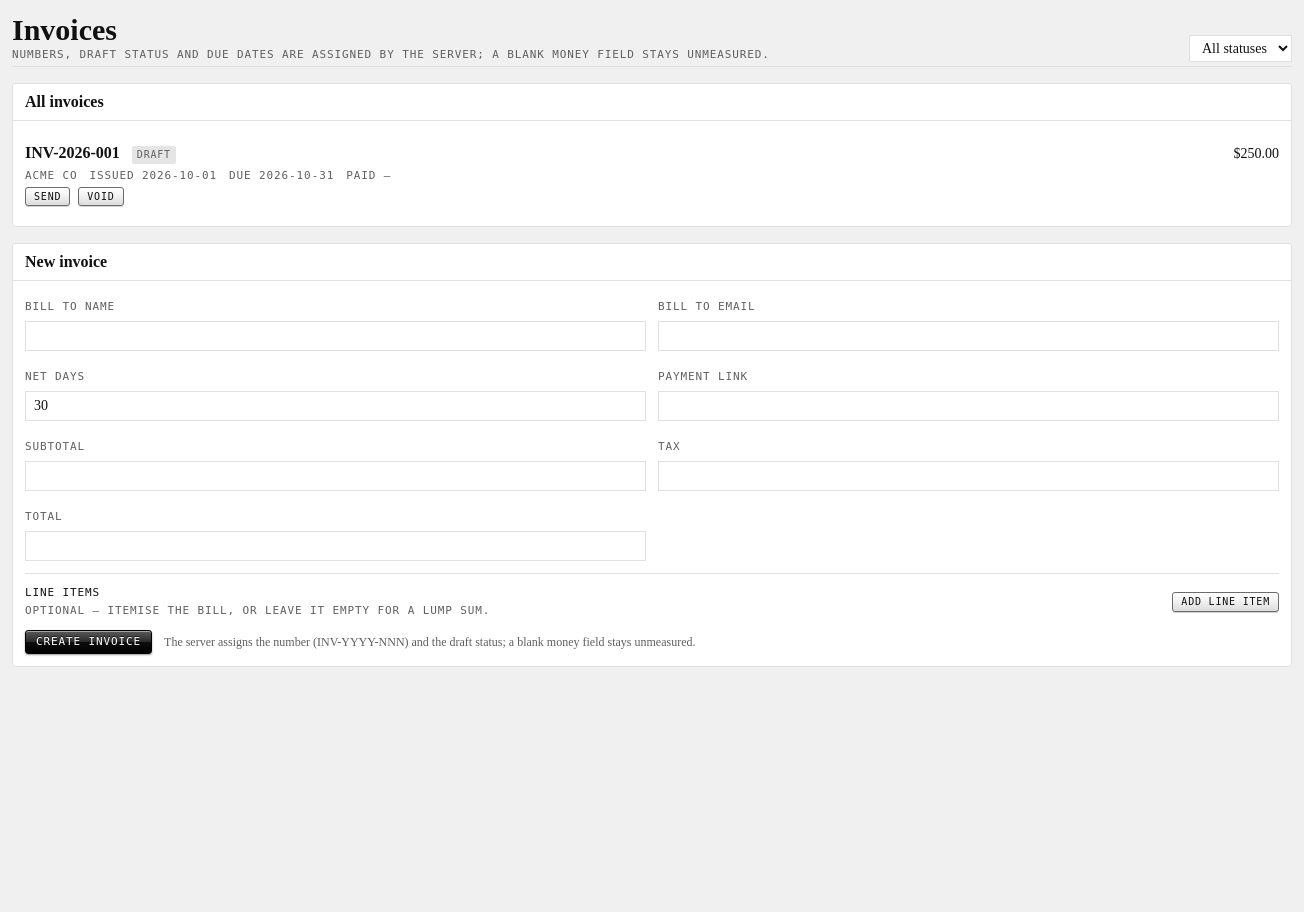
InvoicesPage — create (POST /invoices) › POSTs the exact body and shows the server's row (created note + prepended row, no invented re-read)
The width and height of the screenshot is (1304, 912).
Check: the element with test id "invoice-row-1" is shown, box [25,133,1279,214]
Step 1. Type "Acme Co" into the field labelled "Bill to name" → [336, 336], box [25,321,646,351]
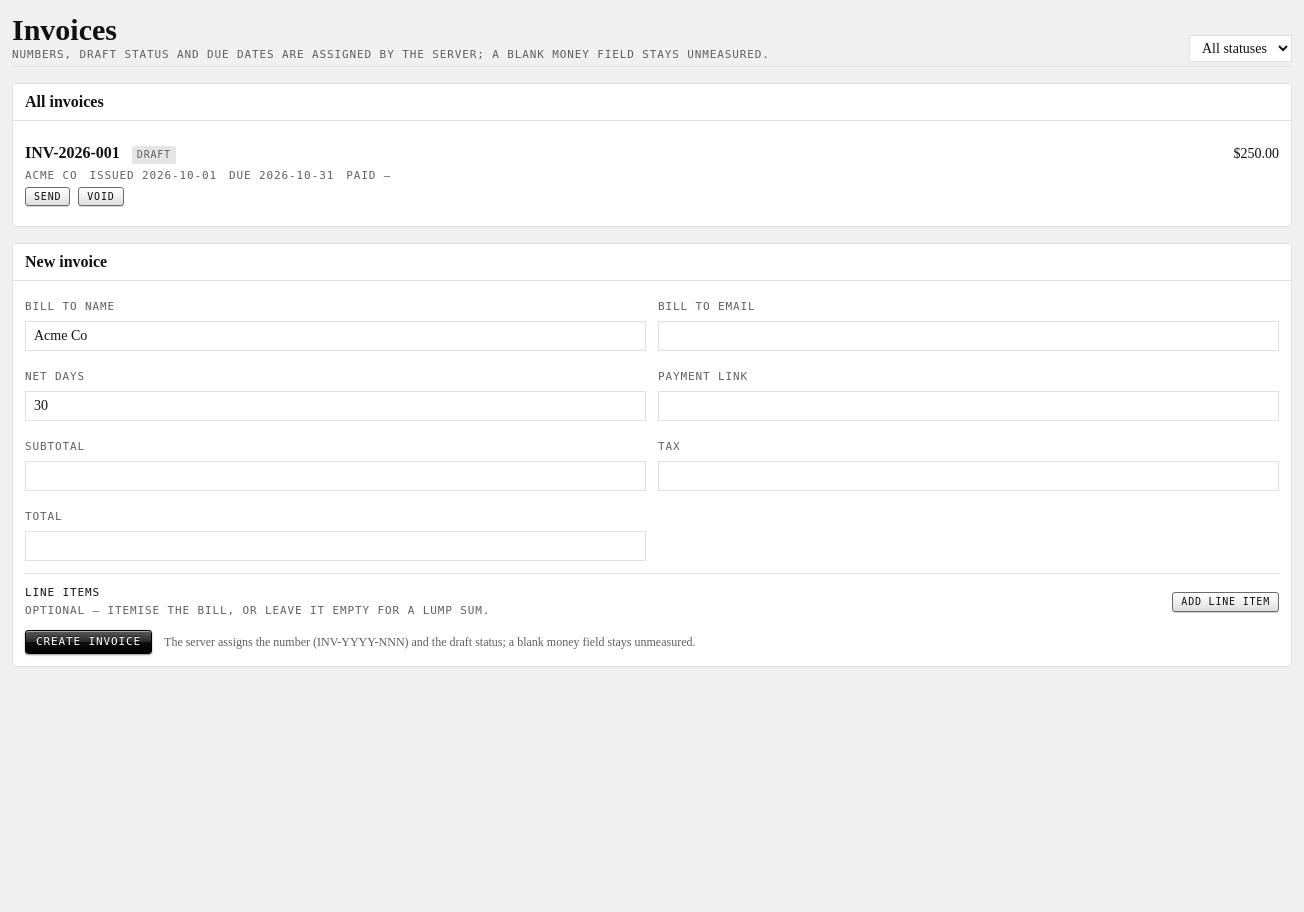
Step 2. Type "billing@acme.test" into the field labelled "Bill to email" → [968, 336], box [658,321,1279,351]
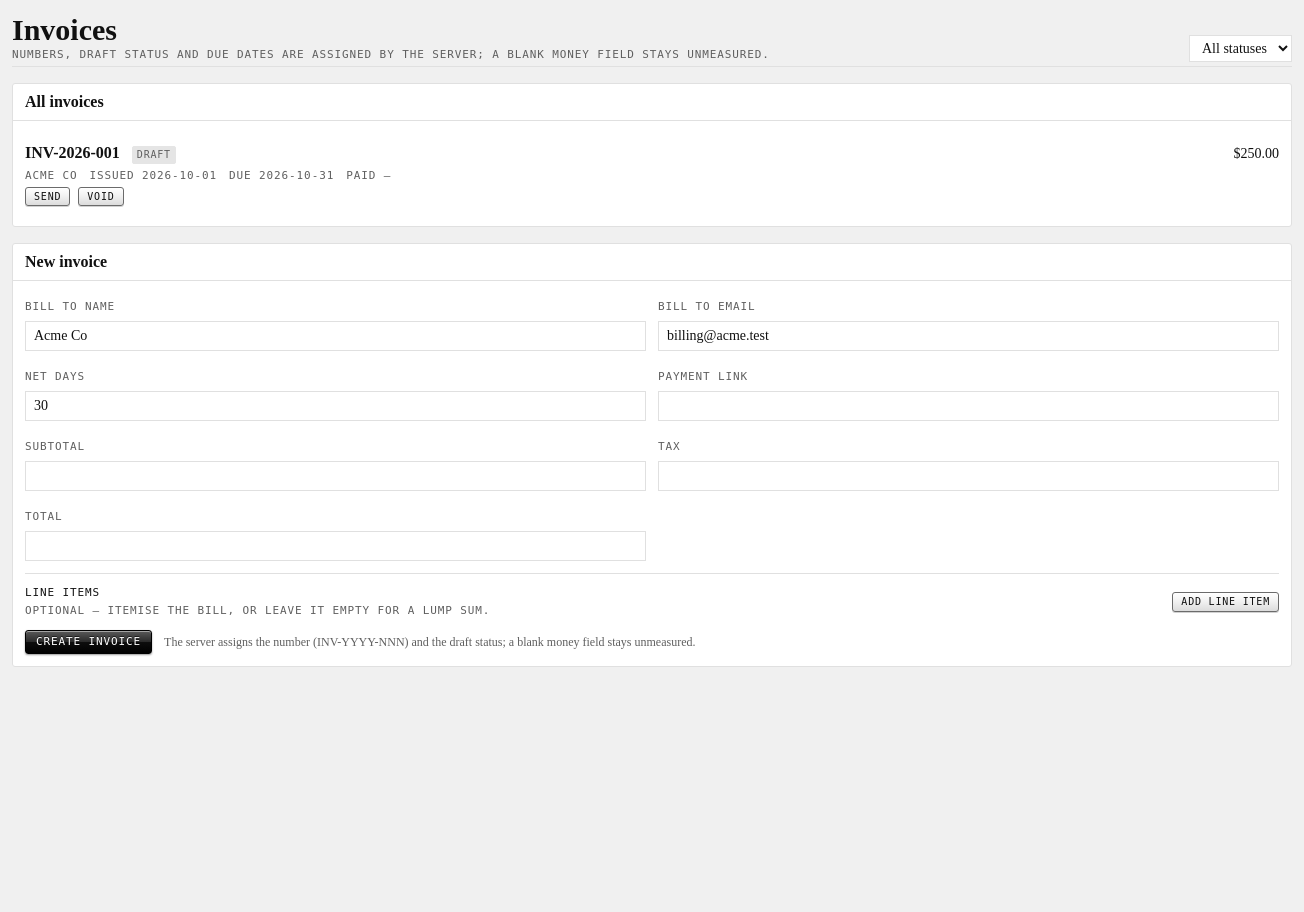
Step 3. Type "125" into the number field labelled "Total" → [336, 546], box [25,531,646,561]
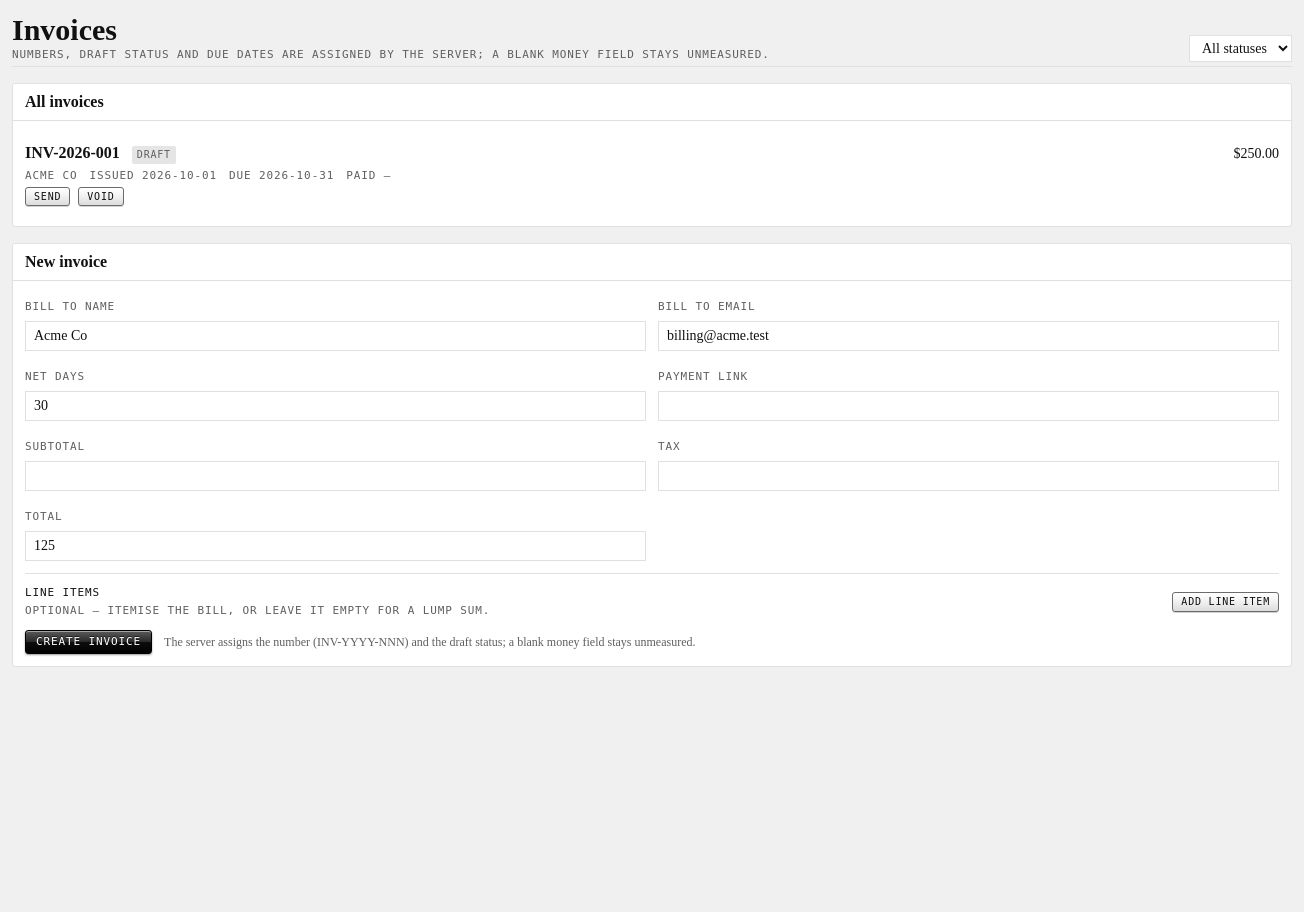
Step 4. Click the button "Create invoice" → [88, 642], box [25,630,152,654]
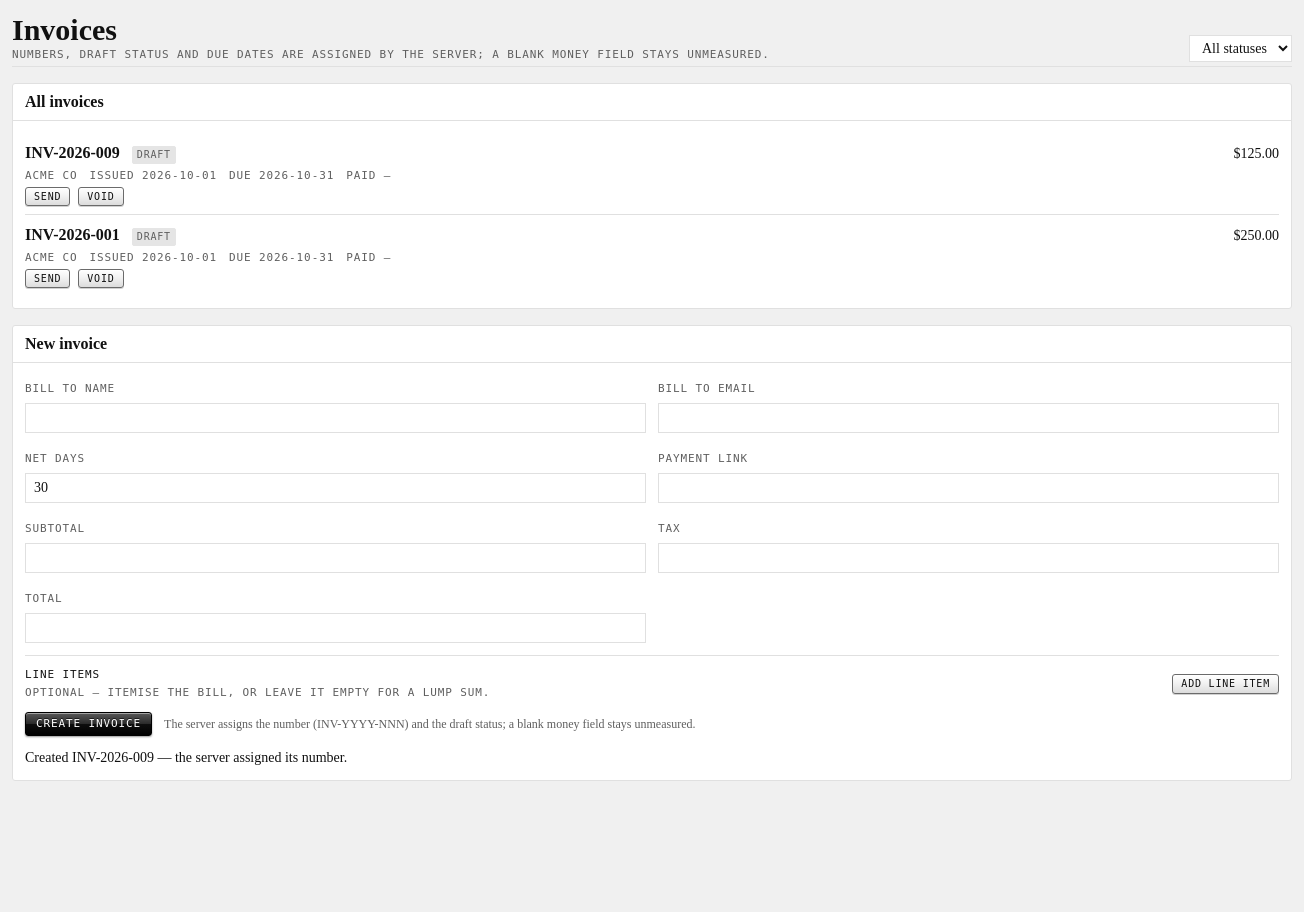
Check: the text with test id "invoice-created-note" shows "INV-2026-009", box [72,750,154,765]
Check: the element with test id "invoice-row-9" is shown, box [25,133,1279,214]
